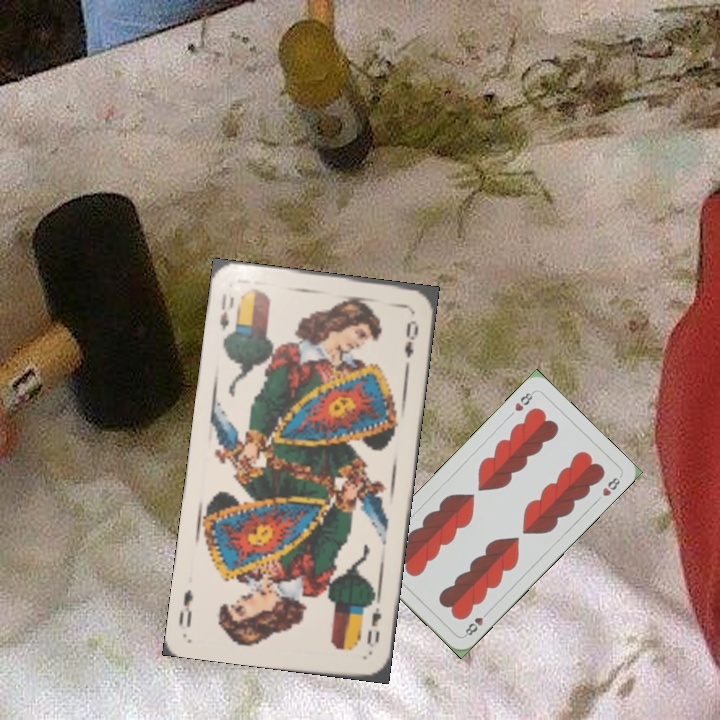EO: (362, 596, 384, 650), (215, 289, 237, 334)
H8: (460, 607, 492, 639), (511, 387, 537, 414)
